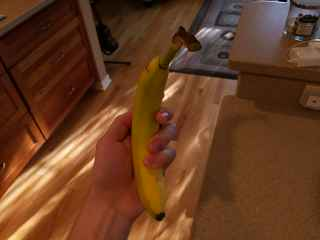banana: (131, 25, 204, 224)
